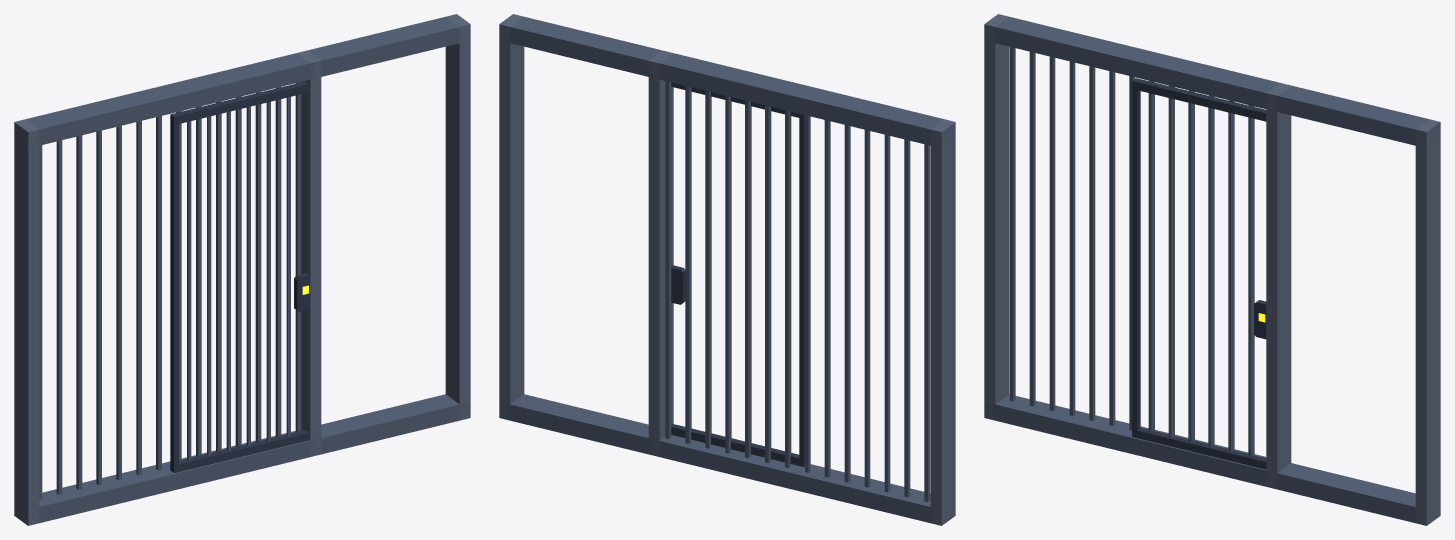
The model's file is res_holding_cage_bars.glb.
3 views of the same model, side by side, from view 1: azimuth 30°, elevation 25°; view 2: azimuth 150°, elevation 25°; view 3: azimuth 330°, elevation 25° (orthographic).
Visible parts, largest first — view 1: frame_rail, cell_frame, magnetic_lock; view 2: frame_rail, cell_frame, magnetic_lock; view 3: frame_rail, cell_frame, magnetic_lock.
Part boxes in pixels (<box>): frame_rail: <box>14,16,470,525</box>; cell_frame: <box>14,14,470,525</box>; magnetic_lock: <box>170,81,309,472</box>; frame_rail: <box>499,16,955,524</box>; cell_frame: <box>499,14,955,525</box>; magnetic_lock: <box>671,82,804,466</box>; frame_rail: <box>984,16,1440,524</box>; cell_frame: <box>984,14,1440,525</box>; magnetic_lock: <box>1132,78,1266,469</box>.
Bounding box in the file's own units: 4 × 3.4 × 0.22.
